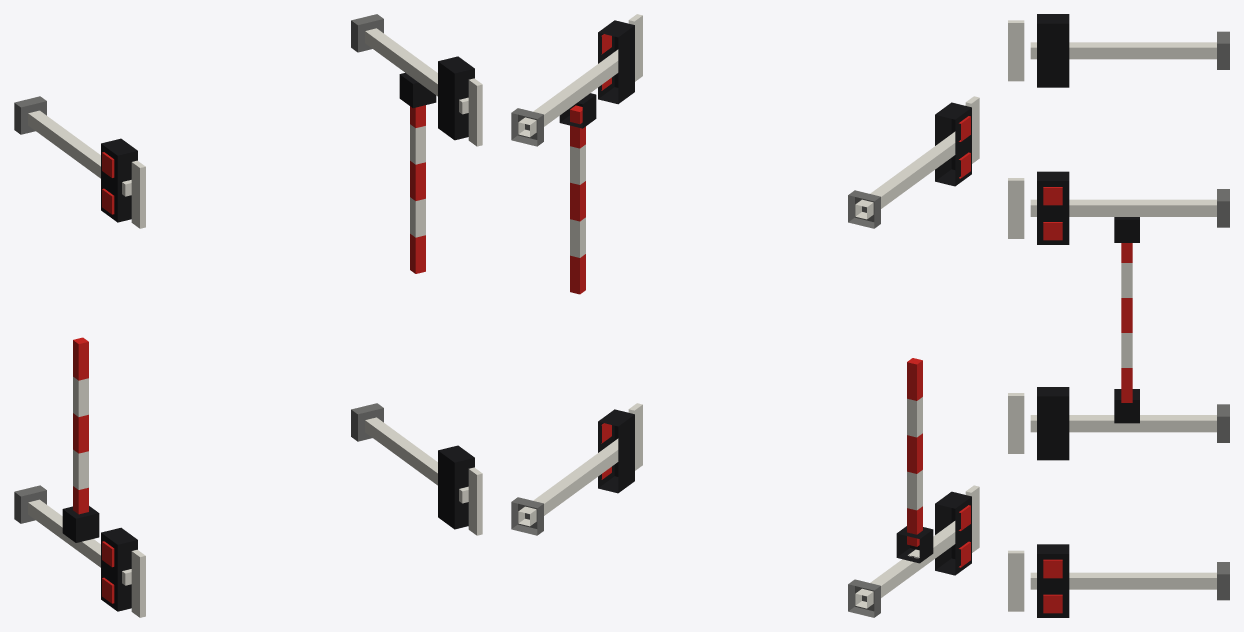
Rendered from closed.glb.
The picture shows the model from 3 angles, left to right: view 1: azimuth 30°, elevation 25°; view 2: azimuth 150°, elevation 25°; view 3: azimuth 270°, elevation 25°; orthographic projection. The views are drawn at different scales.
Parts seen in each view (by area): view 1: closed_crossing; view 2: closed_crossing; view 3: closed_crossing.
Boxes of the visible parts, x1,y1,x2,y2 form: closed_crossing: (14, 14, 482, 617); closed_crossing: (511, 14, 979, 617); closed_crossing: (1008, 14, 1229, 617).
Size of the model in its own units: 12.5 by 15 by 6.9.
